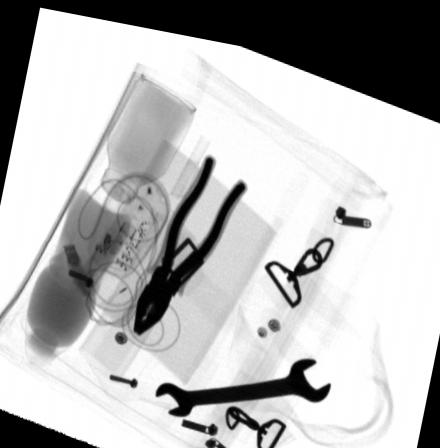Pliers: (130, 141, 250, 329)
Wrench: (153, 342, 331, 411)
